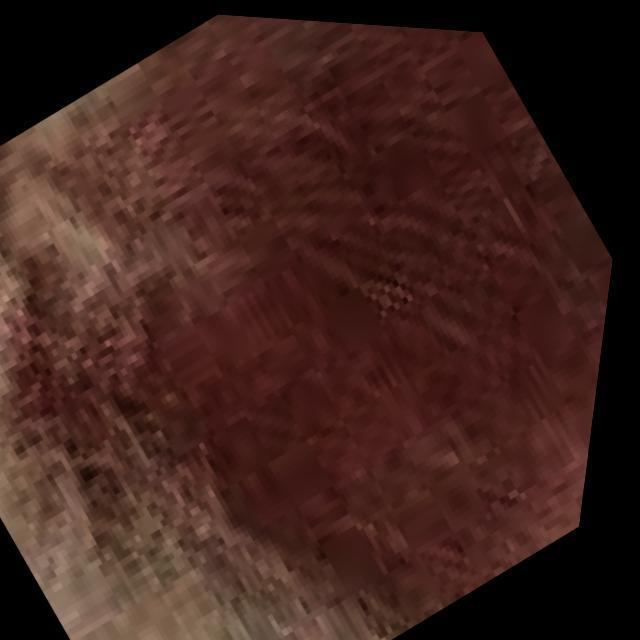fungal infection: (184, 62, 612, 493), (0, 256, 121, 462), (279, 485, 590, 540), (377, 533, 532, 604), (96, 138, 180, 212)
